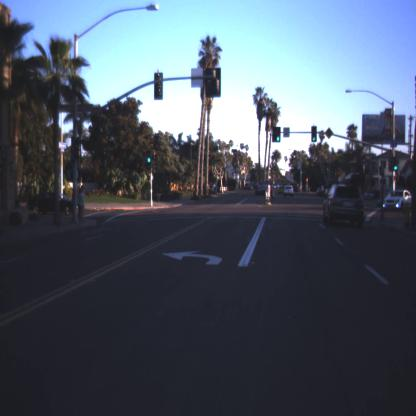trafficlight: (275, 127, 281, 143), (392, 156, 398, 172), (311, 127, 317, 142), (148, 154, 152, 168)
